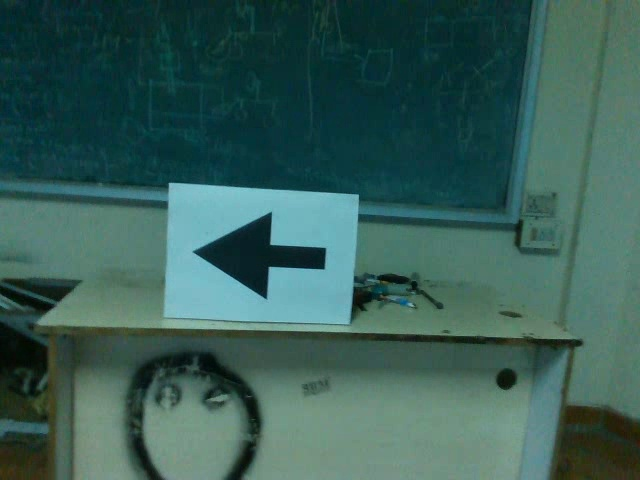Left: (189, 208, 332, 306)
